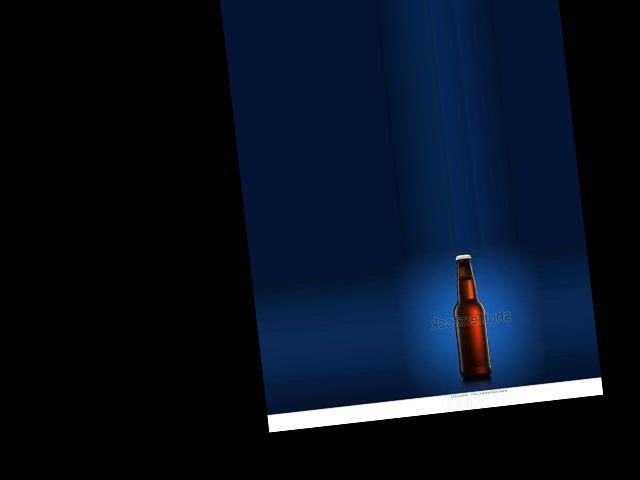beer: (446, 252, 492, 379)
